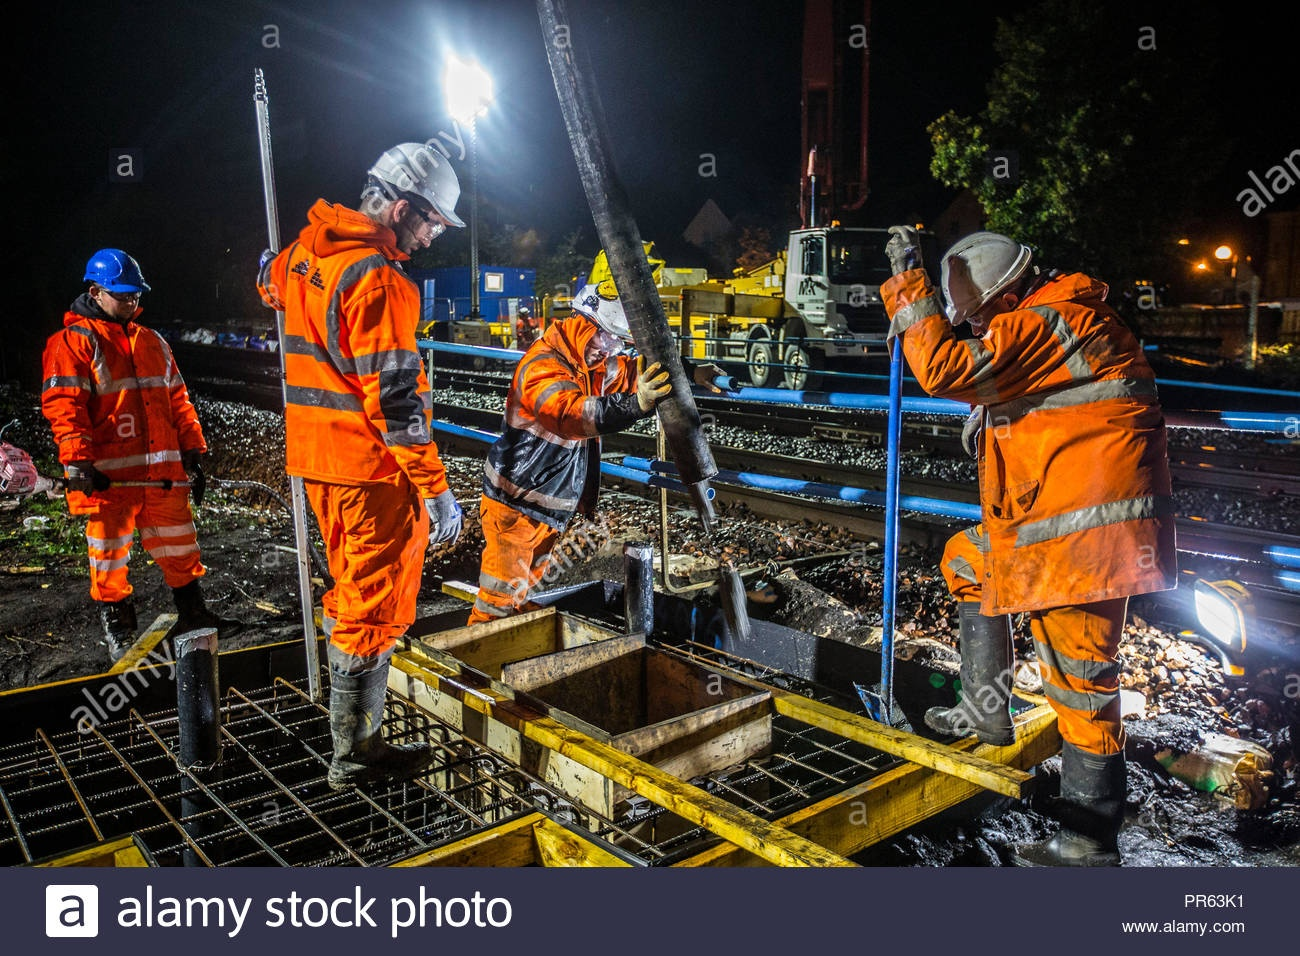blue: (77, 248, 148, 324)
white: (934, 226, 1040, 338), (361, 140, 462, 252), (571, 281, 636, 364)
